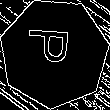P_E: (28, 33, 80, 73)
